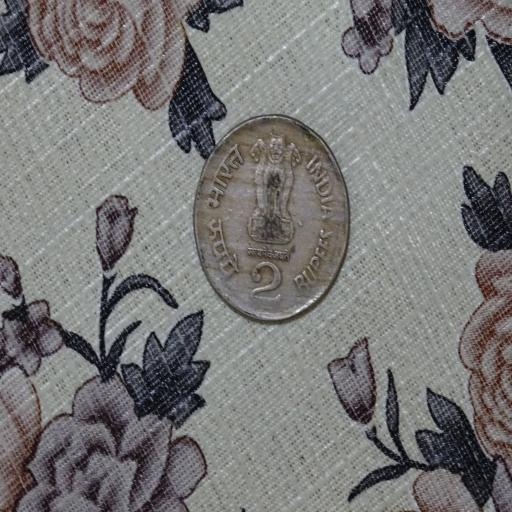rupee2: (191, 115, 351, 326)
